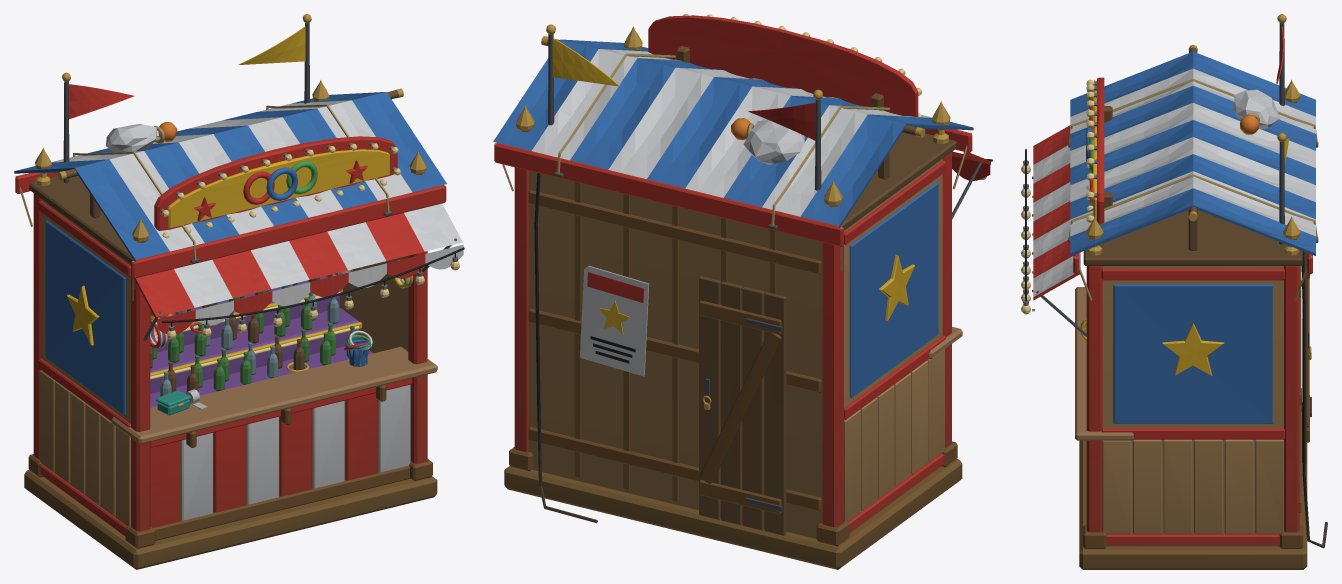
File: ring-toss-booth.glb
3 renders of one model, left to right at view 1: azimuth 30°, elevation 25°; view 2: azimuth 150°, elevation 25°; view 3: azimuth 270°, elevation 25°, orthographic. The views are drawn at different scales.
Parts seen in each view (by area): view 1: ring_toss_booth; view 2: ring_toss_booth; view 3: ring_toss_booth.
Part boxes in pixels (x1,y1,x2,y2): ring_toss_booth: (14,14,464,569); ring_toss_booth: (493,14,992,569); ring_toss_booth: (1021,14,1327,569).
Bounding box in the file's own units: 2.7 × 3.15 × 2.07.
